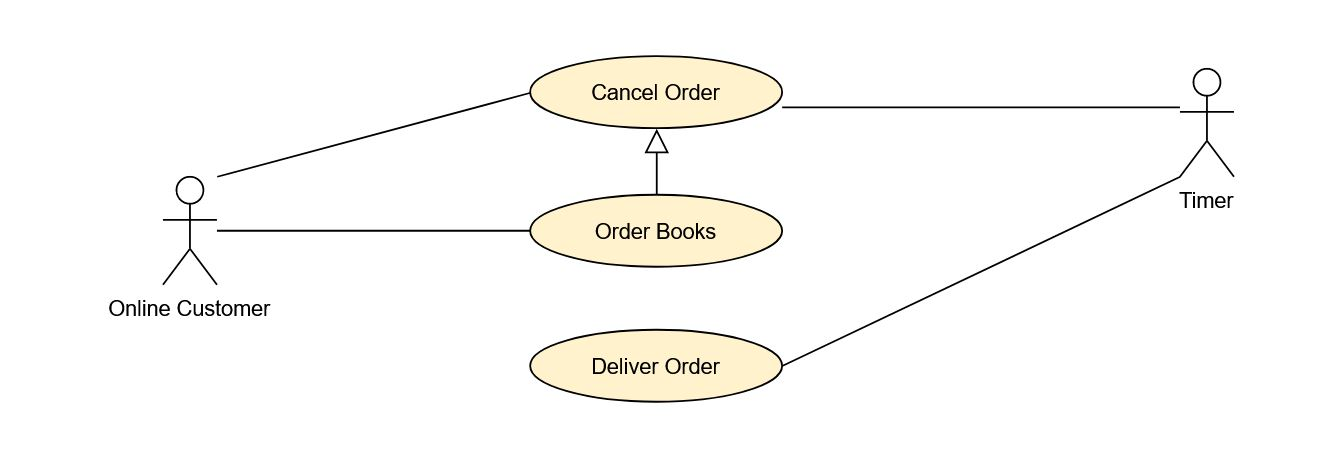actor: (160, 174, 219, 292), (1178, 65, 1236, 183)
association: (782, 179, 1178, 368), (216, 89, 528, 180), (785, 81, 1180, 121), (219, 214, 527, 252), (643, 129, 673, 192)
text: (101, 292, 277, 324), (582, 75, 729, 108), (584, 352, 729, 381), (588, 218, 726, 245), (1178, 183, 1252, 217)
use_case: (526, 192, 784, 270), (527, 327, 783, 404), (530, 54, 782, 129)
